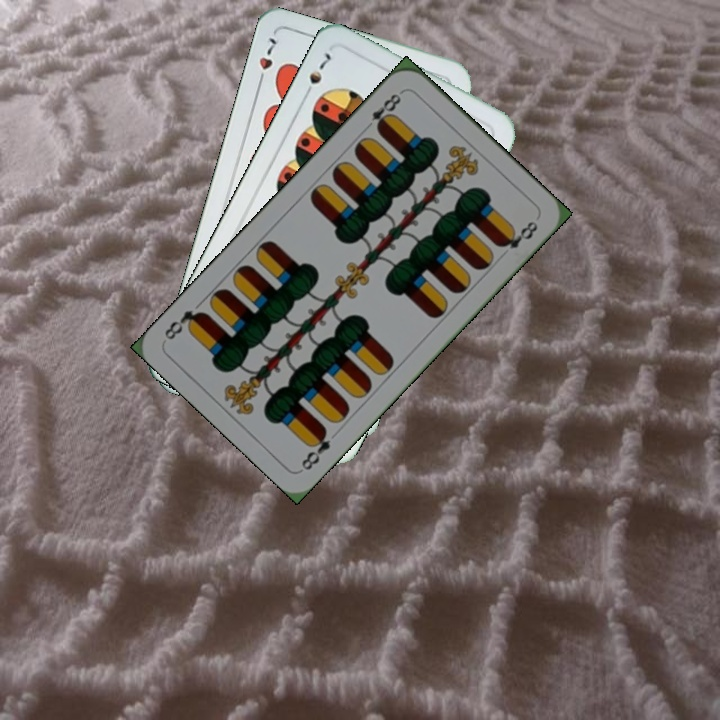E8: (360, 87, 406, 135), (297, 424, 333, 473)
H7: (253, 34, 279, 89)
S7: (300, 48, 334, 101)
